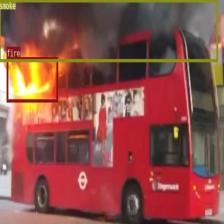fire: (6, 57, 58, 102)
smoke: (0, 0, 218, 61)
